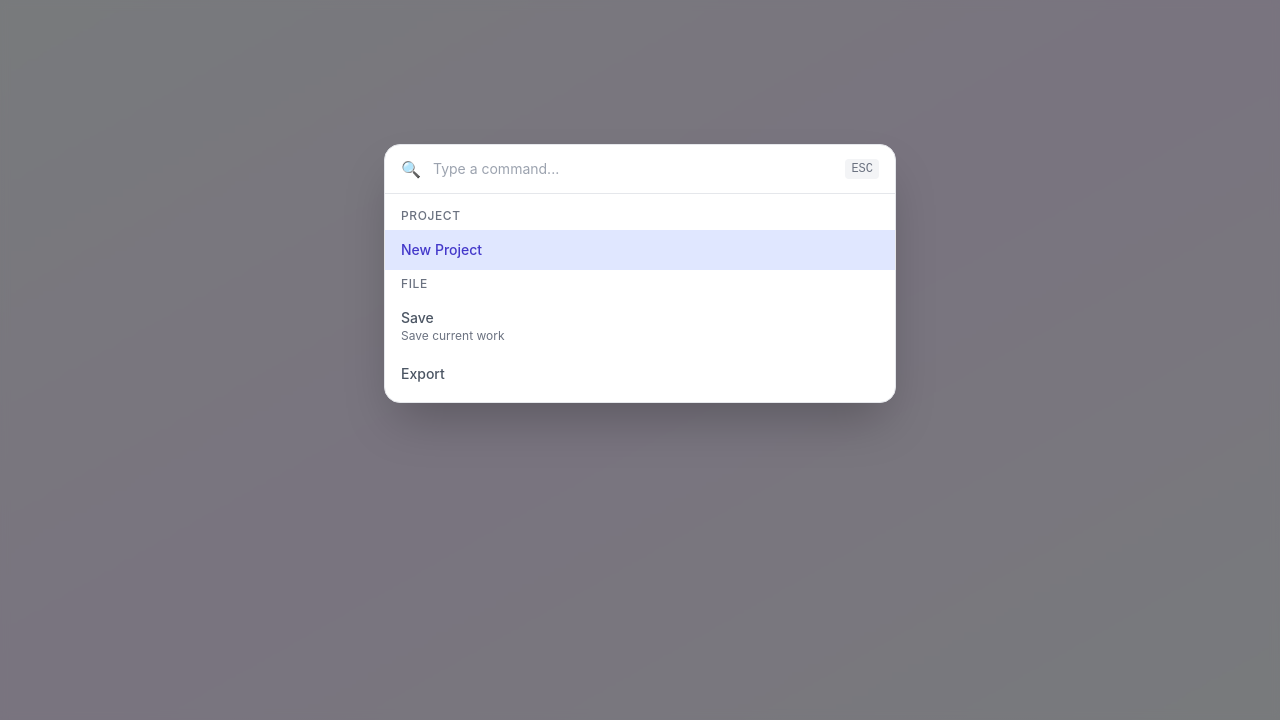
Scenario: CommandPalette › filters commands by query
The image size is (1280, 720).
Type "save" into the dropdown with placeholder "Type a command..." at (633, 169), box 433,159 -> 833,179
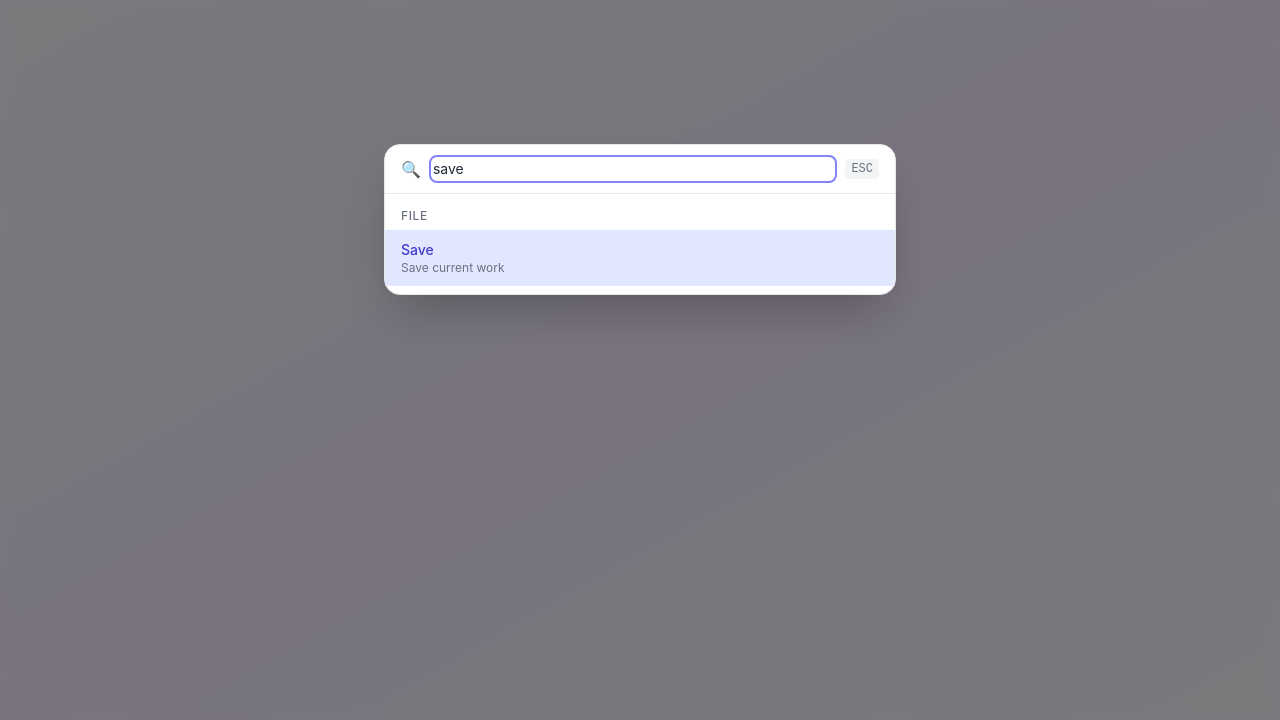
Expected: the text "Save" is shown, 401,241 -> 434,258
Now the option "New Project" is gone
Now the option "Export" is gone
